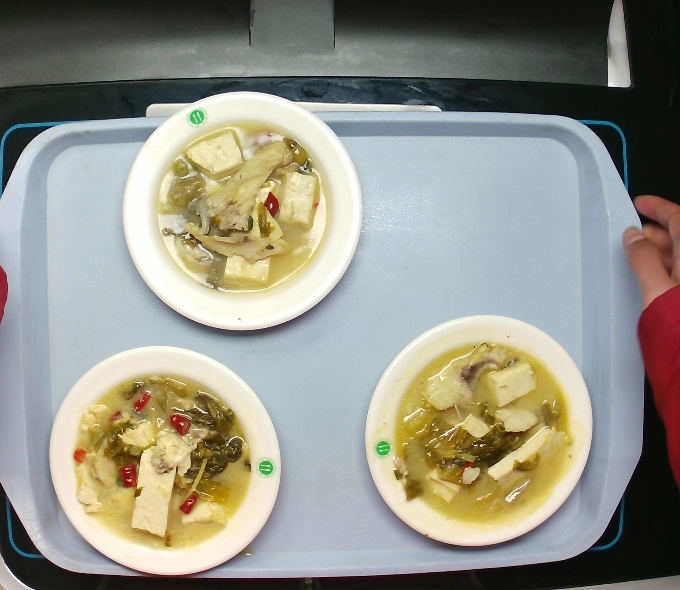wcq-SuanCaiDouFuYu: (381, 331, 574, 527), (65, 370, 262, 551), (162, 121, 325, 295)
